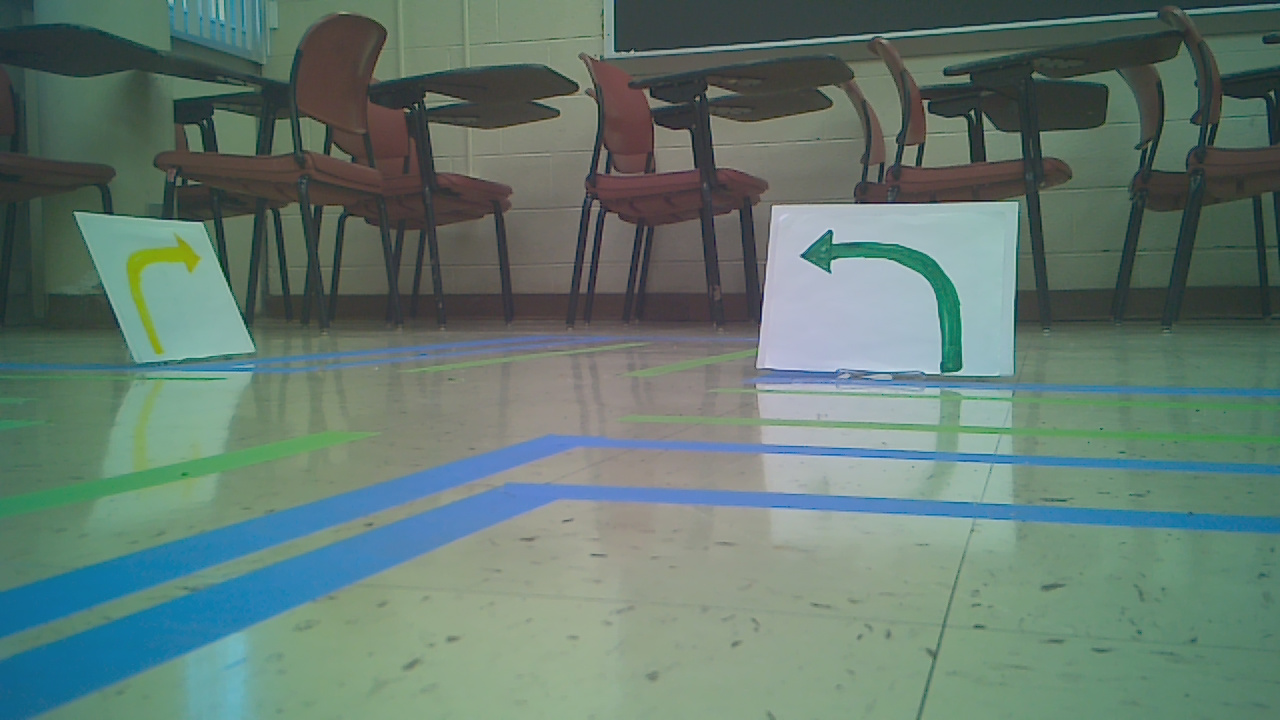greenline: (1, 431, 357, 519), (633, 408, 1274, 448)
left: (799, 229, 968, 372)
right: (86, 218, 245, 357)
